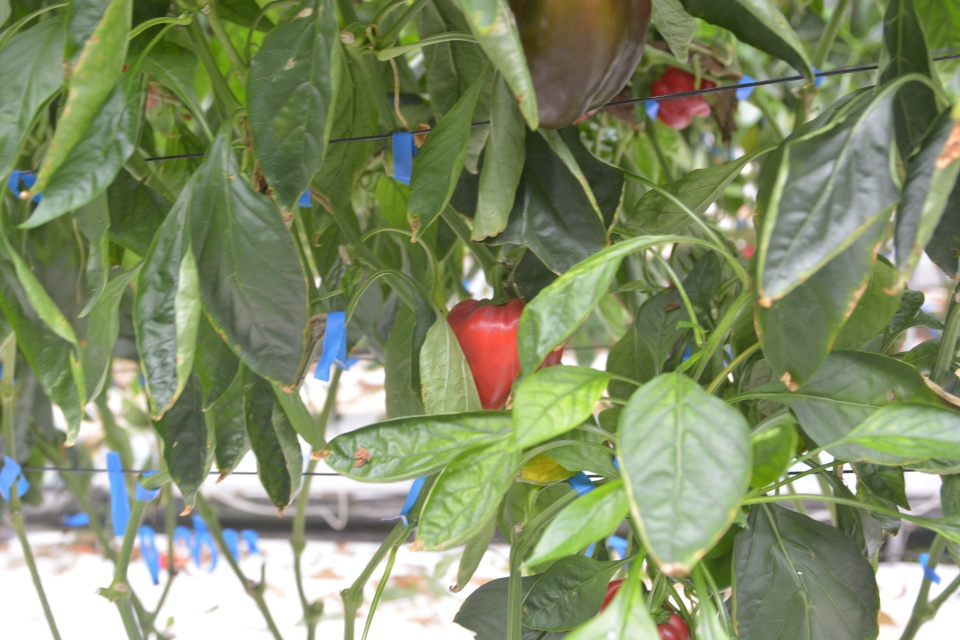fruit: (505, 0, 653, 130), (444, 296, 564, 411), (594, 575, 693, 640), (648, 64, 719, 132)
pedicle: (643, 590, 672, 625), (477, 295, 515, 307)
